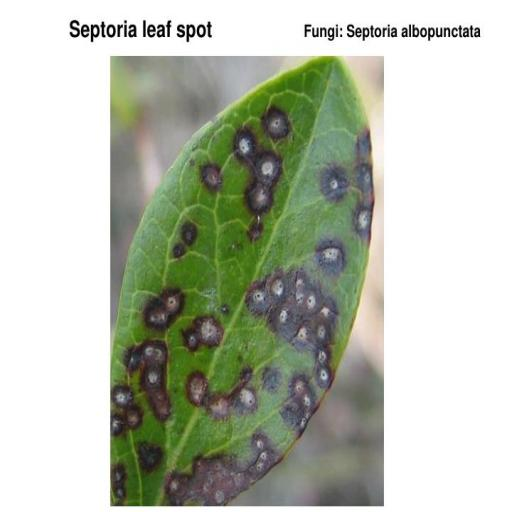Septoria: (112, 60, 376, 498)
